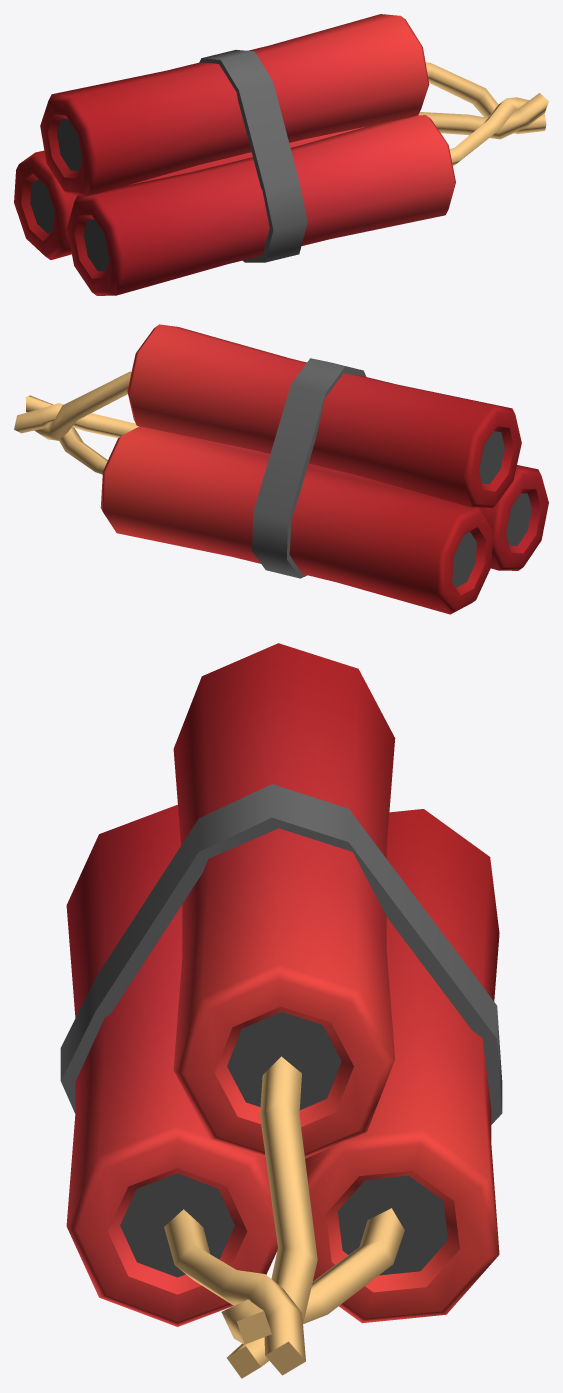
File: dynamite_002.glb
3 views of the same model, one above another, from view 1: azimuth 30°, elevation 25°; view 2: azimuth 150°, elevation 25°; view 3: azimuth 270°, elevation 25° (orthographic). The views are drawn at different scales.
Parts seen in each view (by area): view 1: dynamite_002; view 2: dynamite_002; view 3: dynamite_002.
Part boxes in pixels (x1,y1,x2,y2): dynamite_002: (14,14,548,295); dynamite_002: (14,324,548,614); dynamite_002: (60,643,502,1378).
Bounding box in the file's own units: 1.18 × 0.4427 × 0.4788.
1 material, 1 textured.
